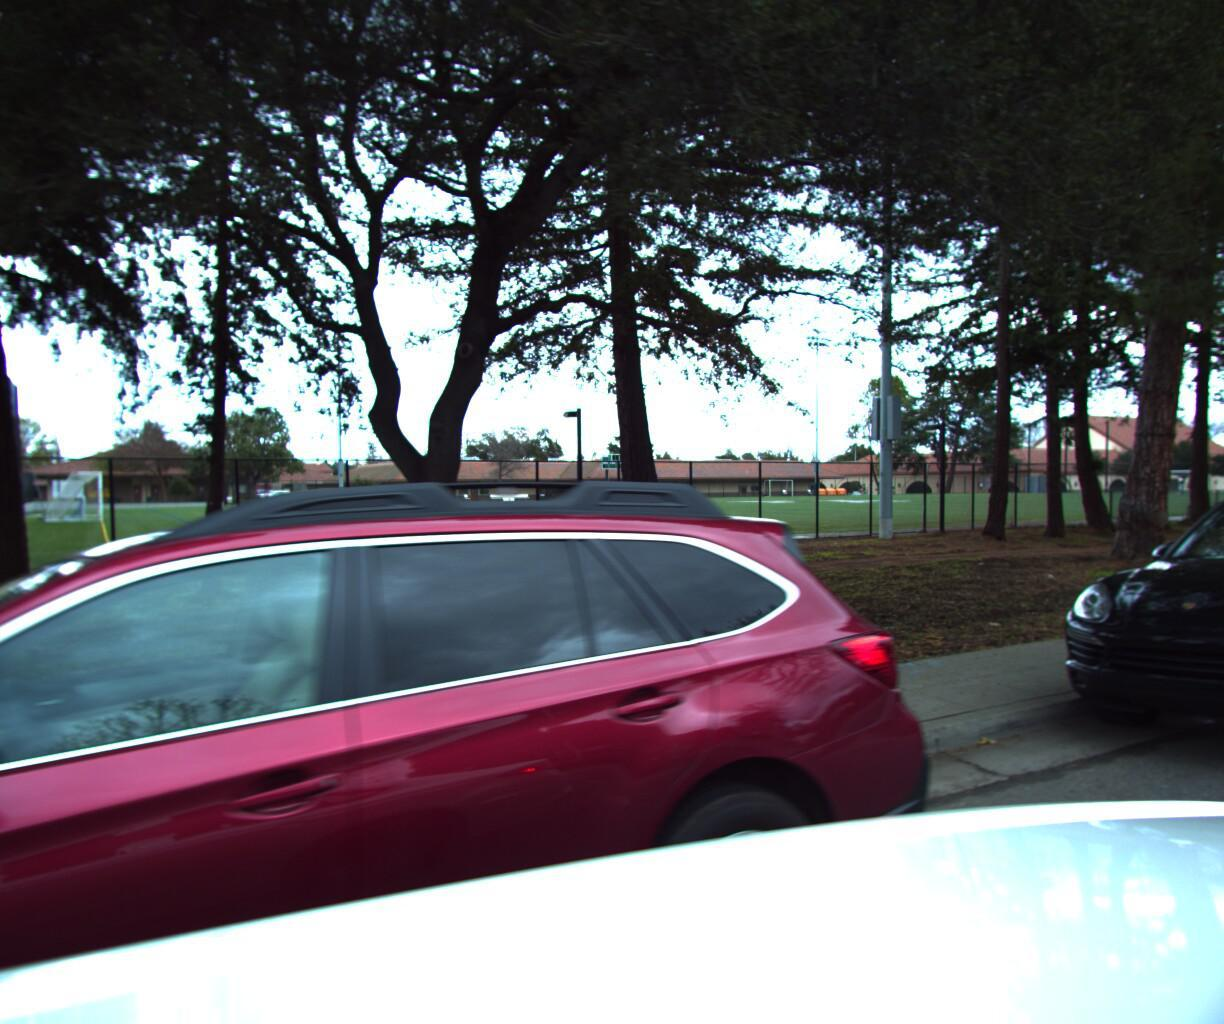car: (0, 480, 993, 1024), (1021, 461, 1224, 825)
